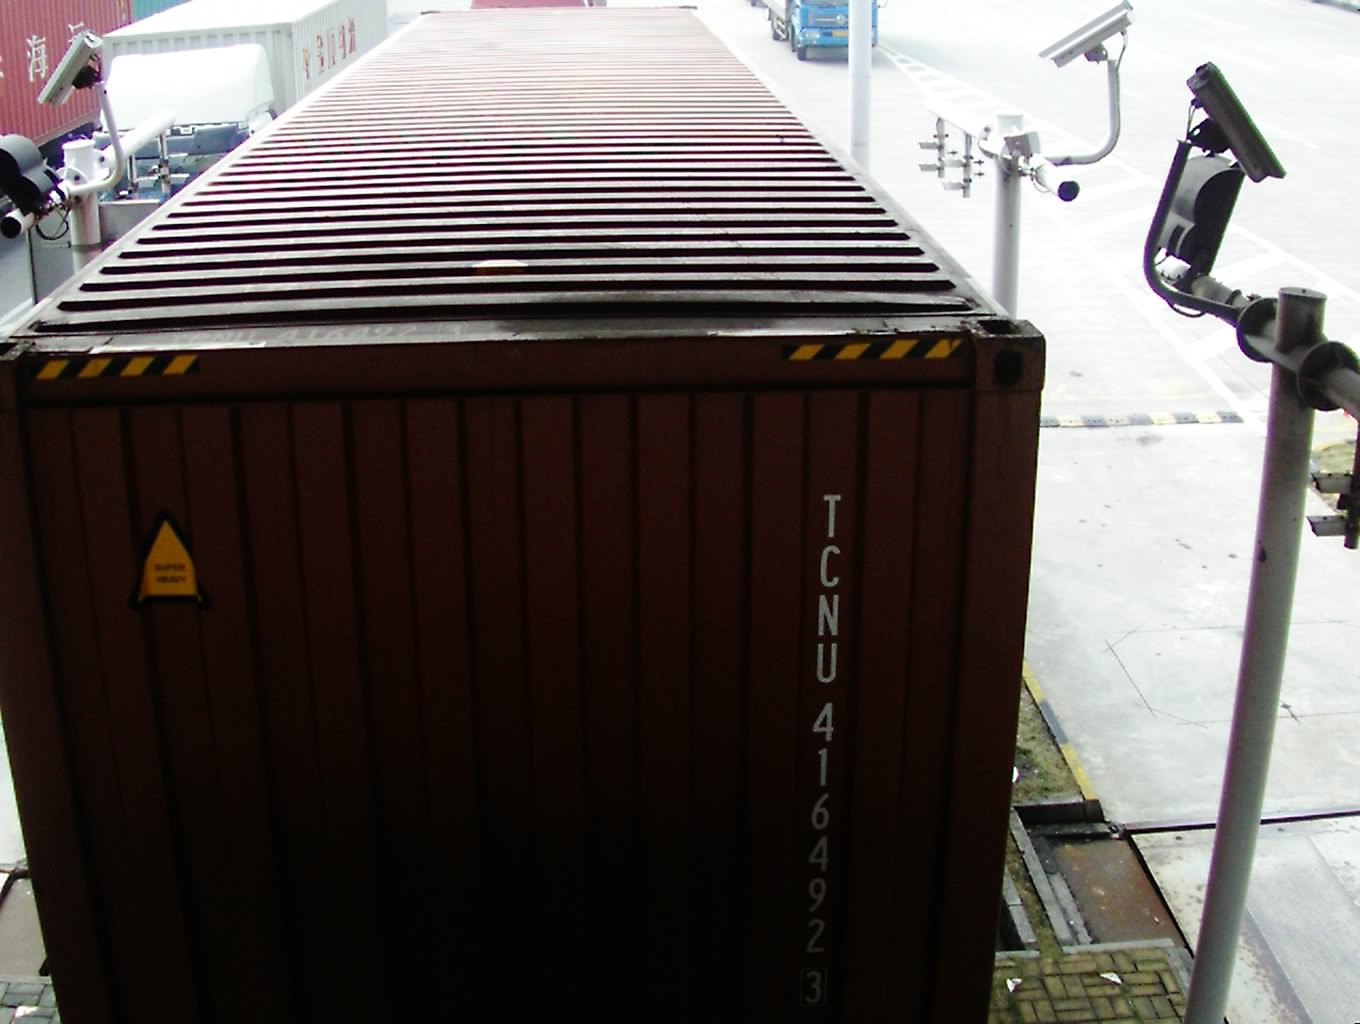words: (803, 484, 851, 1008)
